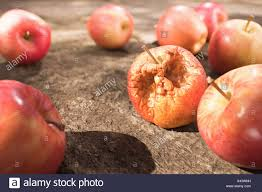apple: (2, 80, 62, 175), (207, 67, 261, 167), (209, 20, 262, 67), (2, 11, 46, 63), (87, 7, 134, 52), (162, 8, 208, 52)
damaged_apple: (129, 48, 204, 126)
